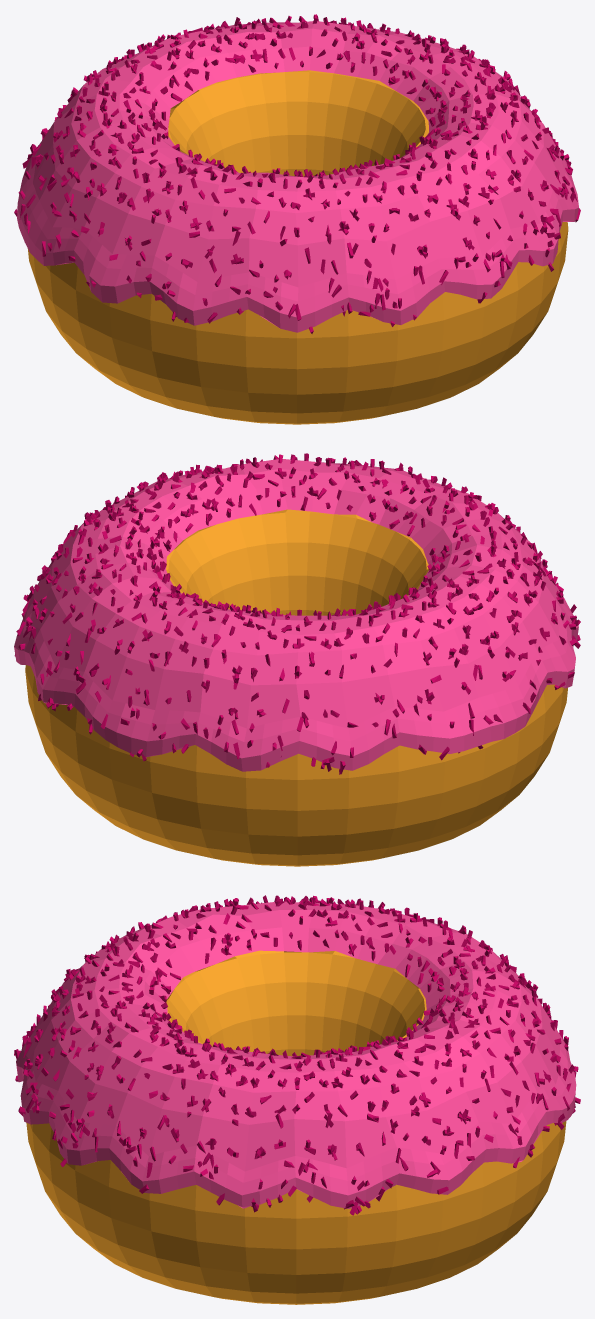
The model's file is donutStopPink.glb.
The picture shows the model from 3 angles, top to bottom: view 1: azimuth 30°, elevation 25°; view 2: azimuth 150°, elevation 25°; view 3: azimuth 270°, elevation 25°; orthographic projection.
Visible parts, largest first — view 1: donut.001; view 2: donut.001; view 3: donut.001.
Part boxes in pixels (left/top/right/bottom): donut.001: left=14, top=14, right=580, bottom=424; donut.001: left=14, top=453, right=580, bottom=866; donut.001: left=14, top=895, right=580, bottom=1304.
Size of the model in its own units: 0.991 by 0.4806 by 0.9999.
